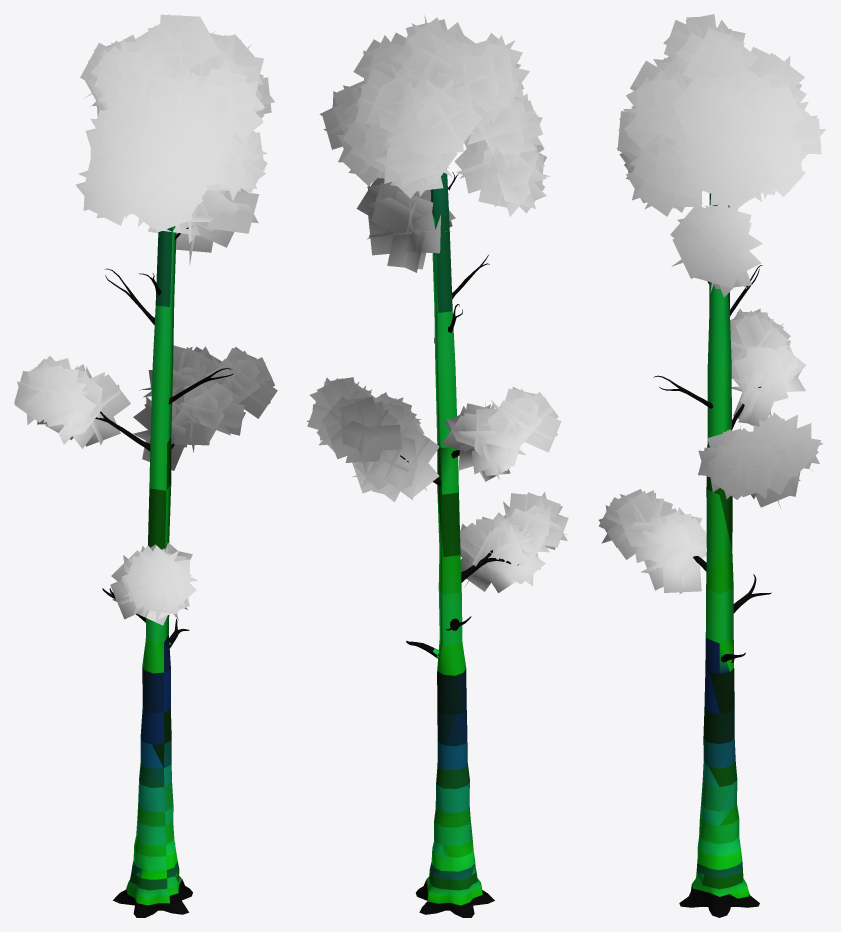
The model's file is SM_tree_pine_01.fbx.
The picture shows the model from 3 angles, left to right: view 1: azimuth 30°, elevation 25°; view 2: azimuth 150°, elevation 25°; view 3: azimuth 270°, elevation 25°; orthographic projection.
Parts seen in each view (by area): view 1: Object32465; view 2: Object32465; view 3: Object32465.
Part boxes in pixels (box(x1,y1,x2,y2)): Object32465: box(14, 14, 277, 917); Object32465: box(306, 15, 568, 917); Object32465: box(599, 14, 825, 917).
Size of the model in its own units: 129 by 438 by 103.
